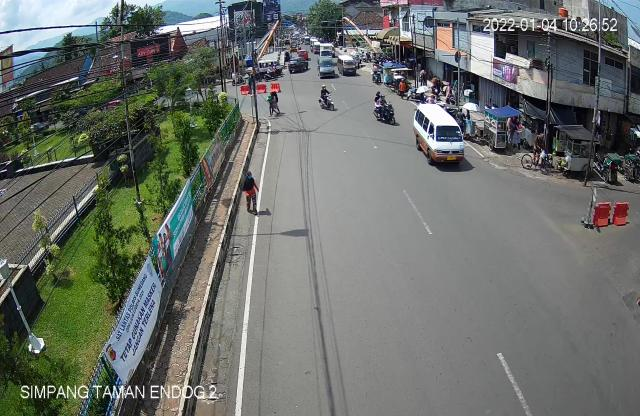Mobil: (410, 100, 470, 174)
Motor: (371, 92, 401, 127), (317, 83, 339, 114)
